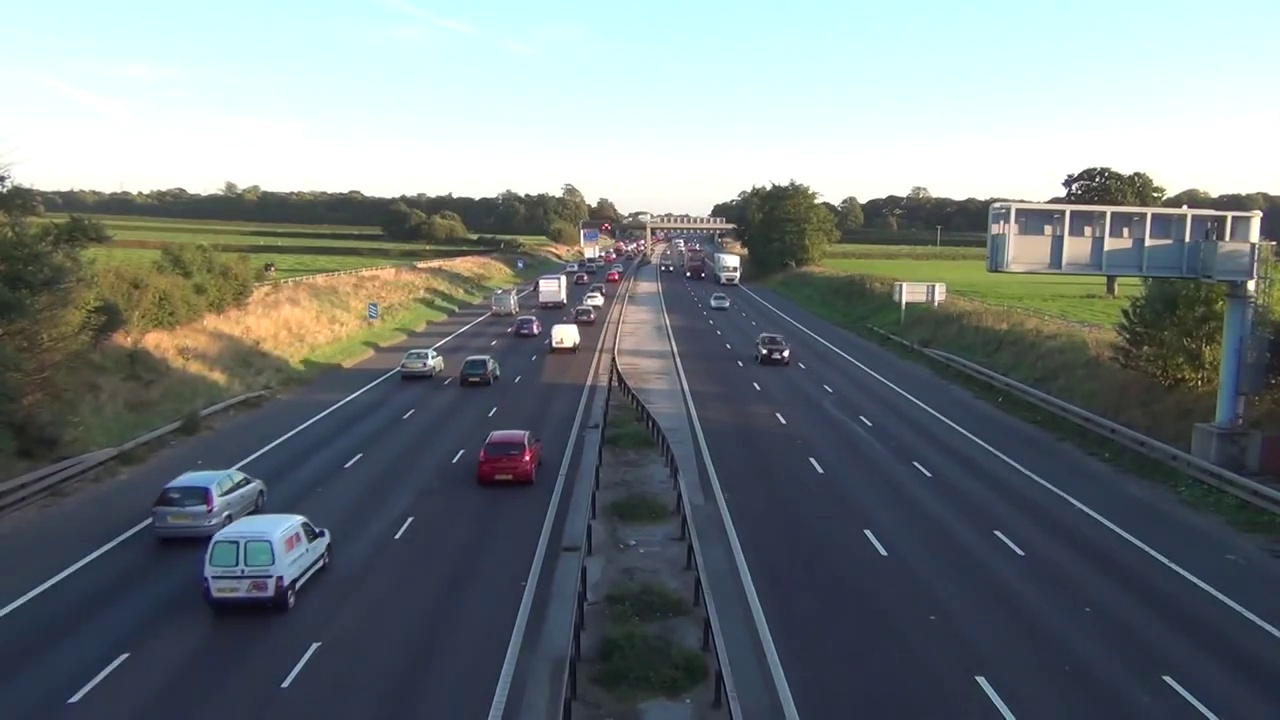bus: (145, 469, 267, 535), (476, 430, 542, 485), (754, 333, 792, 367), (459, 355, 500, 386), (399, 350, 444, 378), (513, 315, 543, 337), (709, 292, 729, 312), (581, 292, 605, 307), (573, 307, 594, 324)
car: (713, 254, 742, 287), (538, 275, 567, 307), (684, 249, 707, 280)
lorry: (199, 513, 330, 610), (549, 324, 582, 354), (489, 290, 522, 316)
